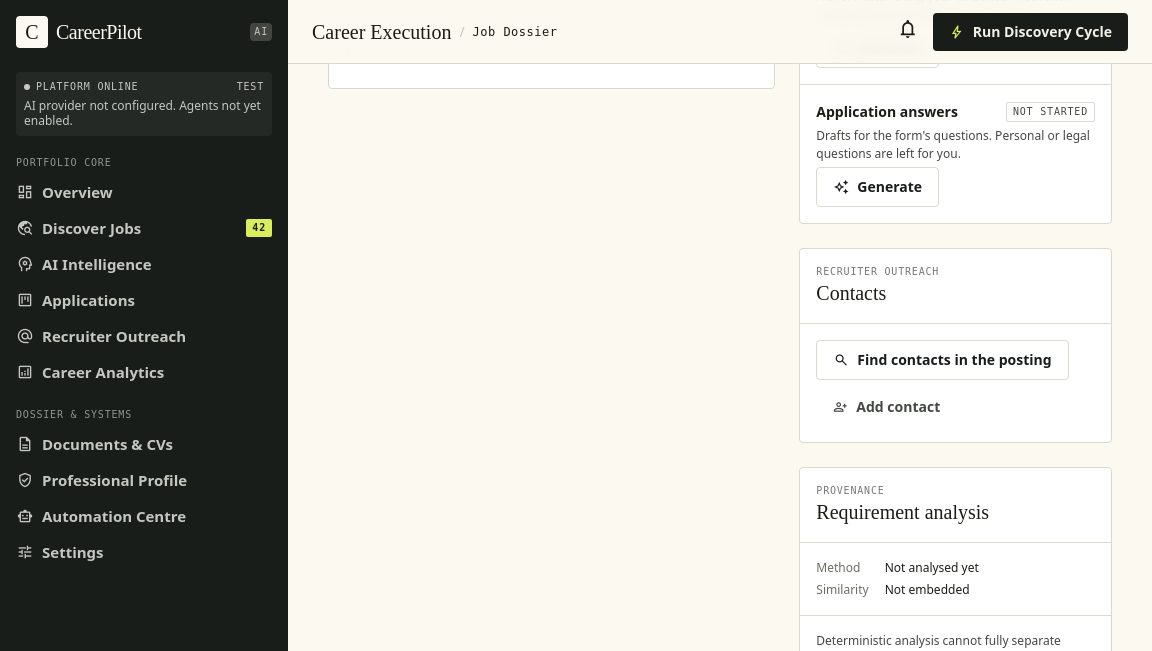
Test case: recruiter outreach › finds contacts published in a job posting
The width and height of the screenshot is (1152, 651).
(page scrolled)
Click the button "Find contacts in the posting" at coordinates (942, 360), box [816,340,1069,380]
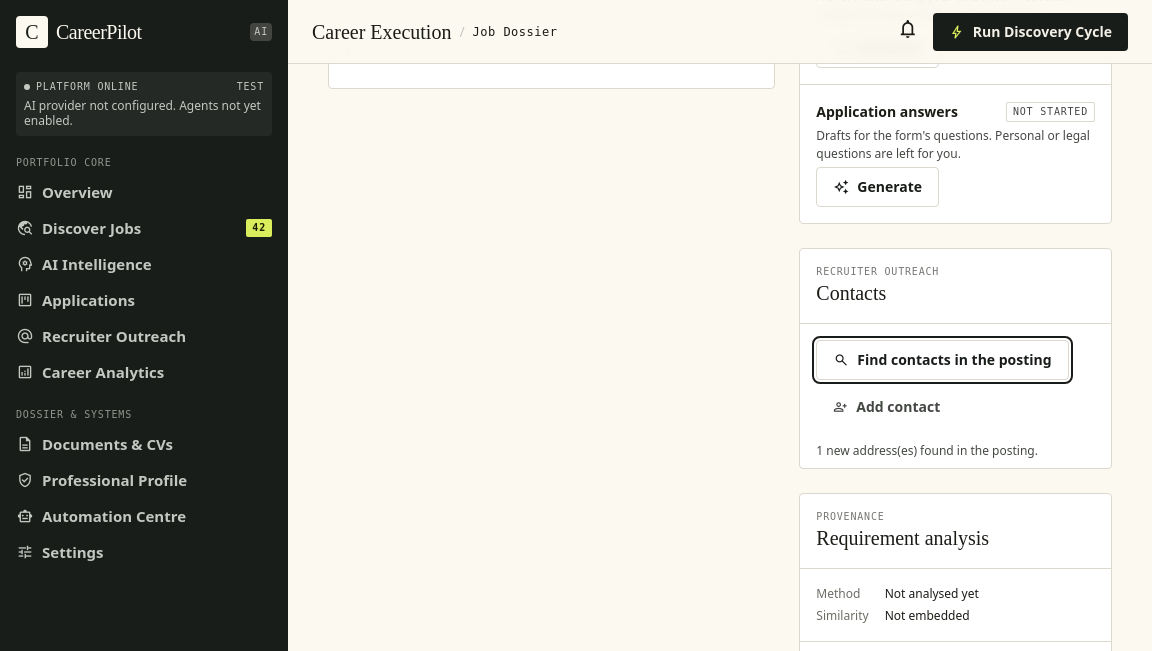
Result: the text "1 new address(es) found in the posting." is shown at [816,442,1038,459]
